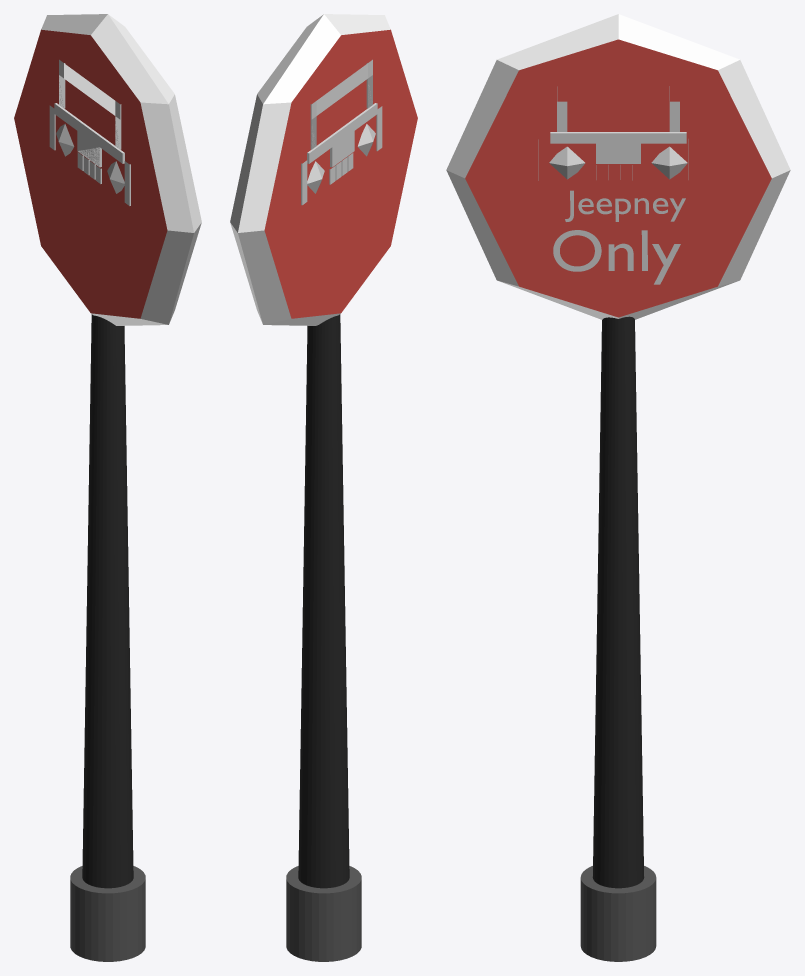
File: signjeep.glb
The picture shows the model from 3 angles, left to right: view 1: azimuth 30°, elevation 25°; view 2: azimuth 150°, elevation 25°; view 3: azimuth 270°, elevation 25°; orthographic projection.
Parts seen in each view (by area): view 1: Cube.001, Cylinder.001, Cylinder, Cube.002; view 2: Cube.001, Cylinder.001, Cylinder, Cube.002; view 3: Cube.001, Cylinder.001, Cylinder, Cube.002, Only.001, Only.
Boxes of the visible parts, left/top/right/bottom form: Cube.001: left=14, top=14, right=201, bottom=325; Cylinder.001: left=82, top=314, right=133, bottom=888; Cylinder: left=70, top=866, right=145, bottom=961; Cube.002: left=49, top=59, right=130, bottom=205; Cube.001: left=230, top=14, right=417, bottom=325; Cylinder.001: left=298, top=314, right=349, bottom=888; Cylinder: left=286, top=866, right=361, bottom=961; Cube.002: left=301, top=59, right=382, bottom=205; Cube.001: left=446, top=14, right=790, bottom=319; Cylinder.001: left=592, top=316, right=644, bottom=888; Cylinder: left=580, top=866, right=656, bottom=961; Cube.002: left=538, top=86, right=688, bottom=180; Only.001: left=553, top=230, right=680, bottom=284; Only: left=565, top=190, right=685, bottom=221.
Size of the model in its own units: 0.4437 by 6.03 by 2.02.
